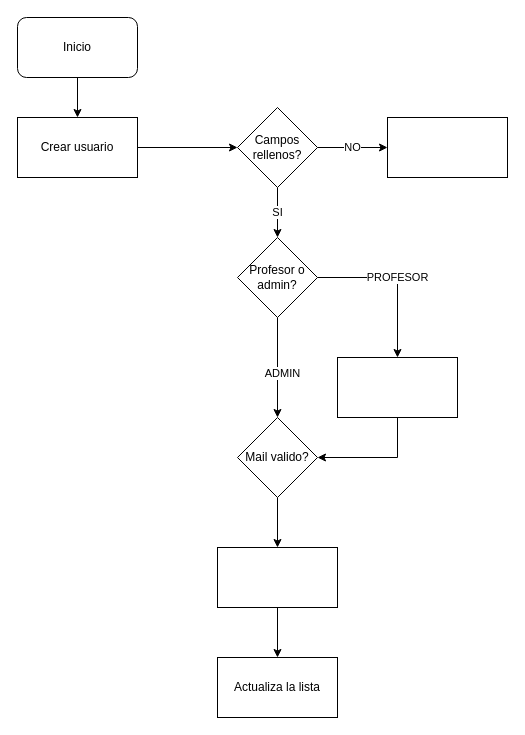
Some shapes in this 525 by 735 pixel diagram are drawn without their labels. The centre of each missing label's shape, as x and y in pixels:
"Crea al usuario" goes at [277,577].
"Despliega opciones de profesor" goes at [397,387].
"Muestra mensaje que debe rellenar los campos" goes at [447,147].
